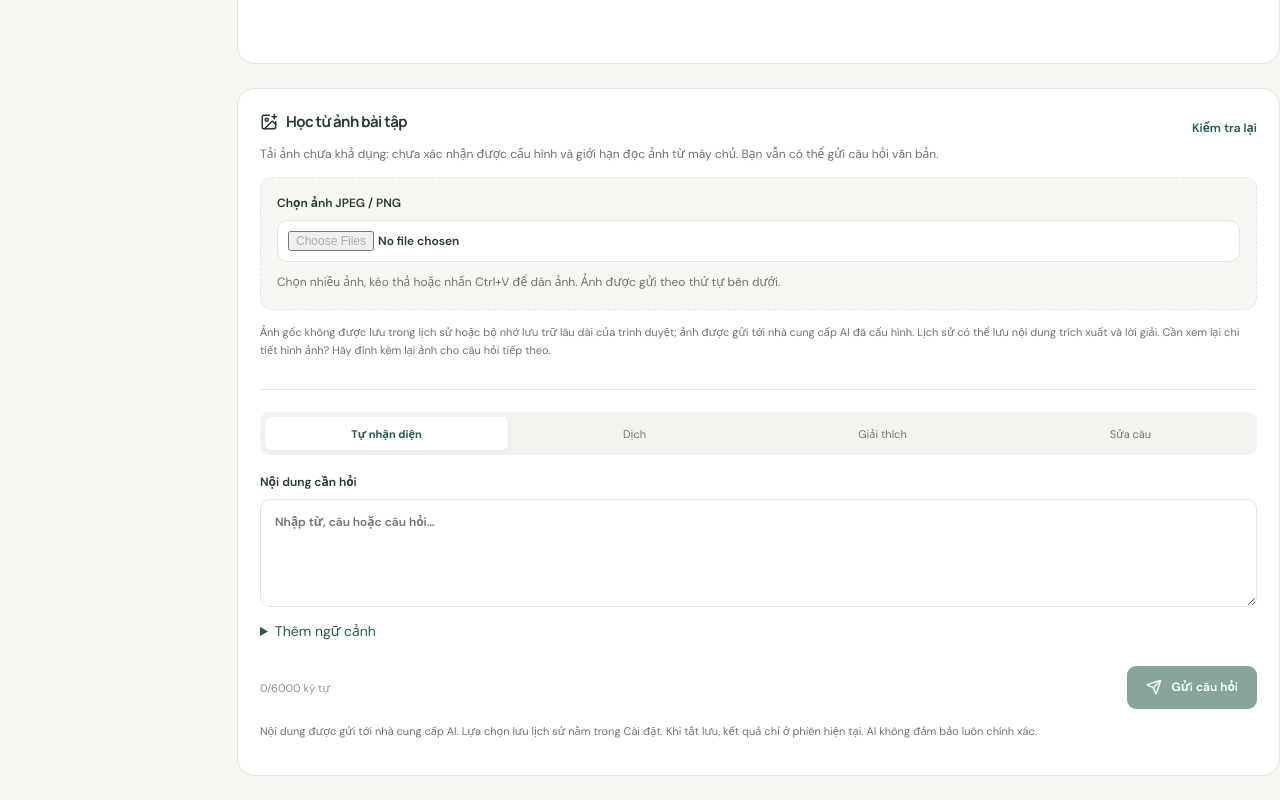
Assistant failures › keeps input on missing provider instead of returning a fabricated translation
The image size is (1280, 800).
(page scrolled)
In the text box labelled "Nội dung cần hỏi": (758, 553) top-left (260, 499), bottom-right (1257, 607), type "Hello there"
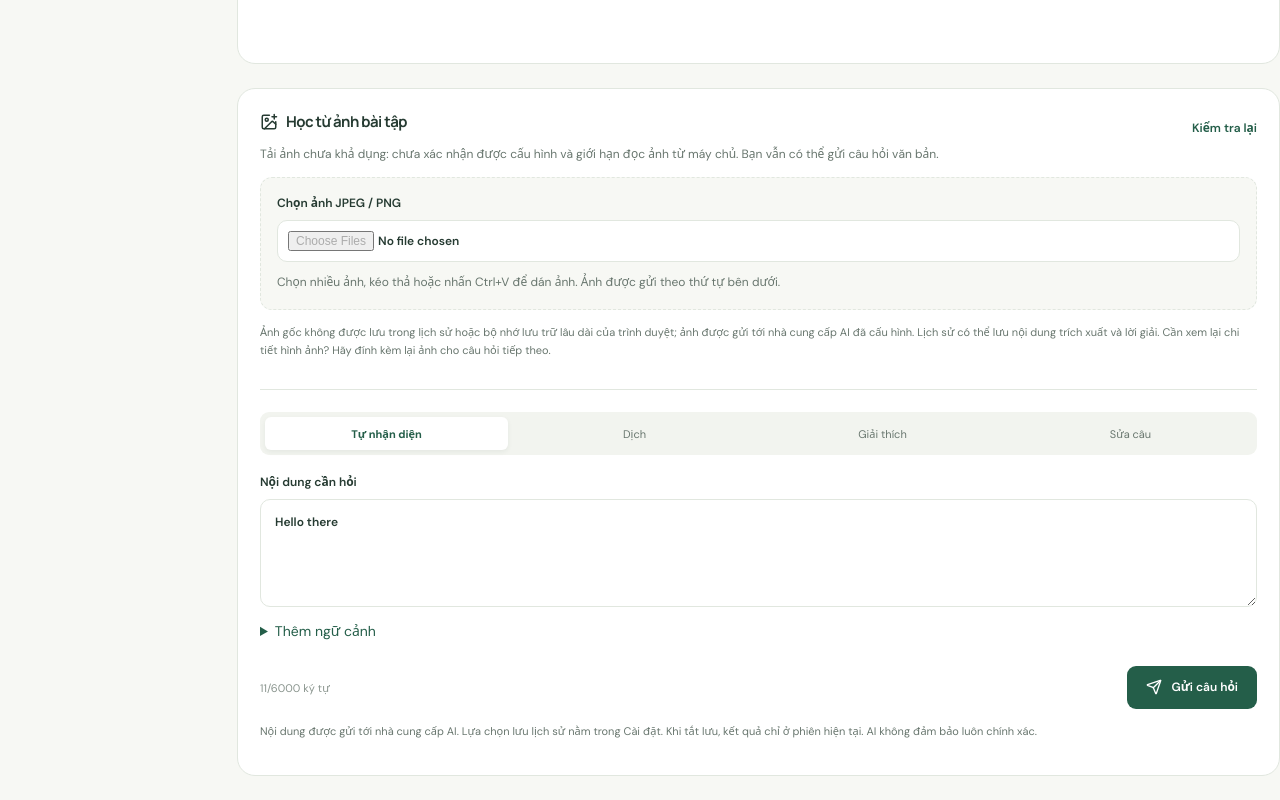
Click the button "Gửi câu hỏi": (1192, 687) top-left (1127, 666), bottom-right (1257, 709)
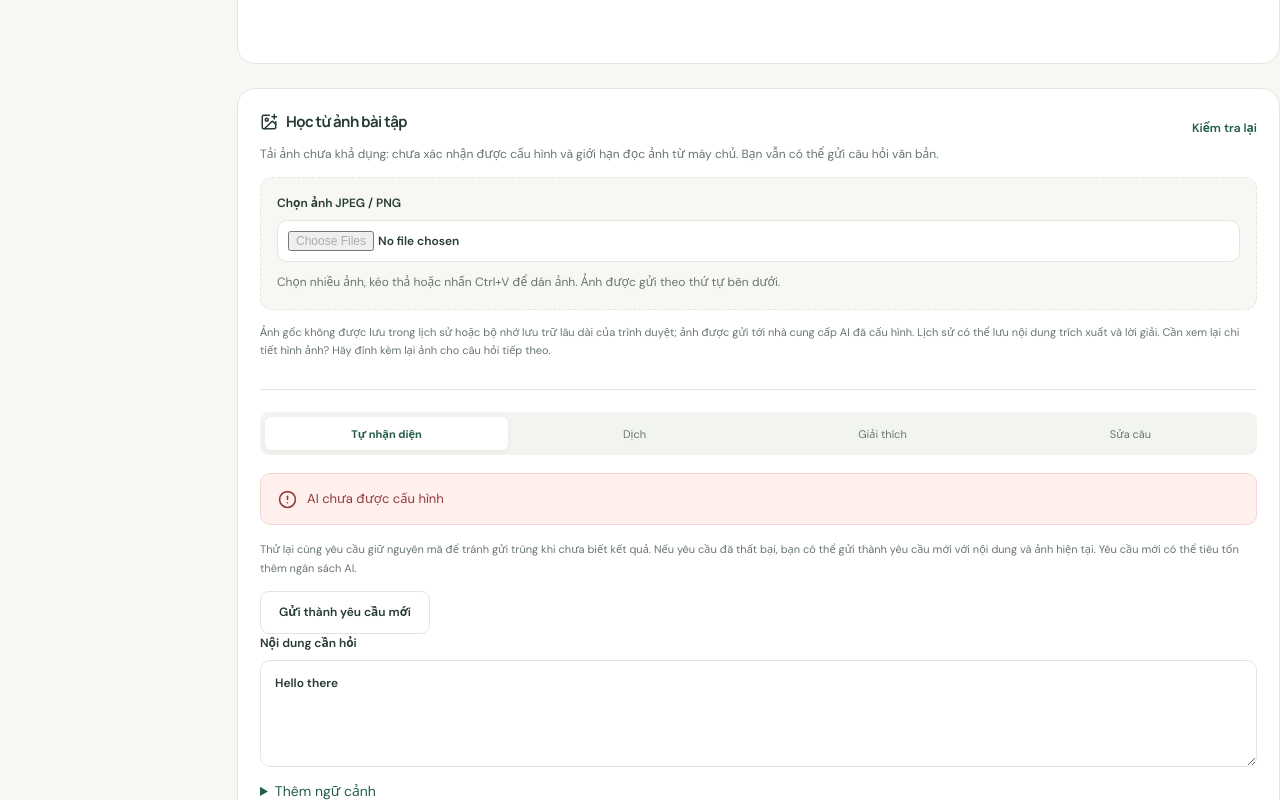
Expected: the message "AI chưa được cấu hình" is shown, top-left (260, 473), bottom-right (1257, 525)
